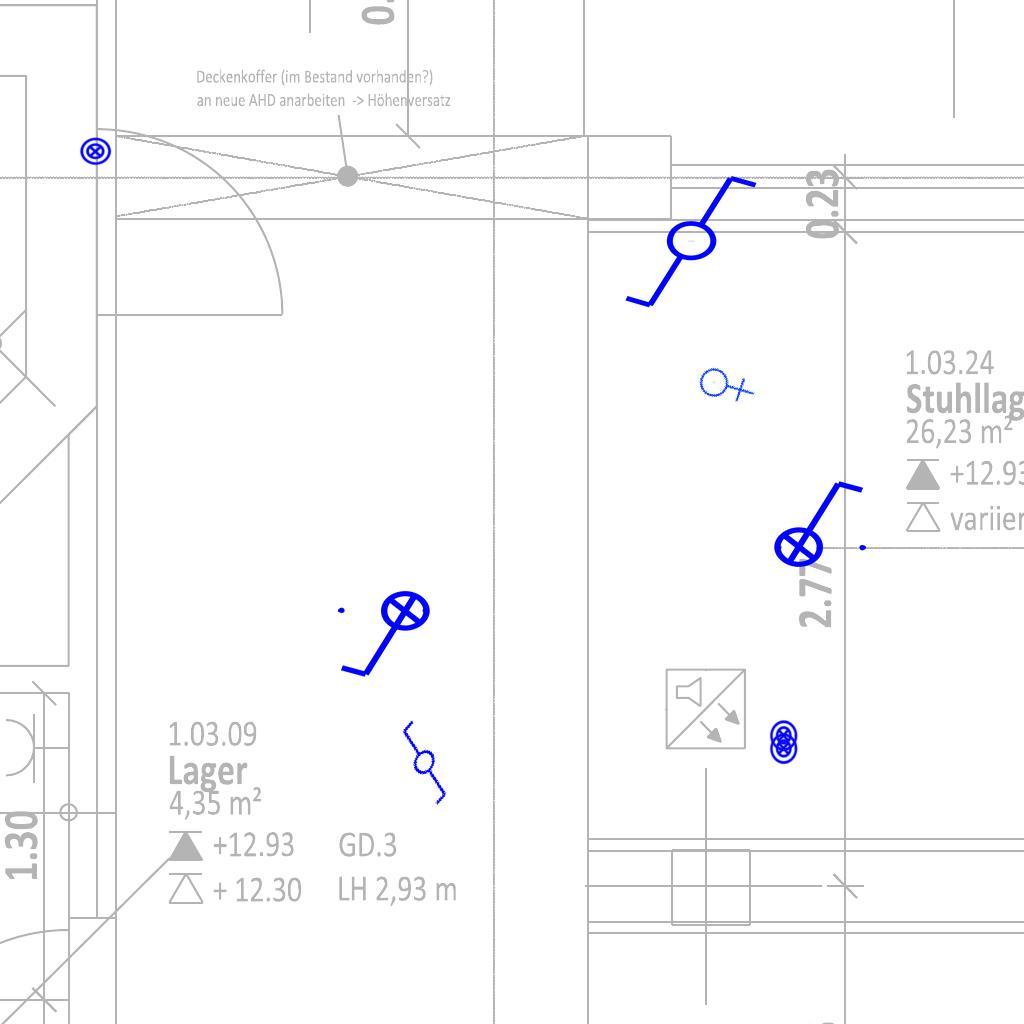Ausschalter_beleuchtet: (760, 473, 872, 569), (332, 589, 444, 685)
Elektroanschluss_allgemein_230V_Geraeteanschlussdose_230V: (691, 350, 758, 417)
Taster_beleuchtet: (79, 135, 112, 168), (767, 719, 800, 752), (767, 732, 800, 765)
Wechselschalter: (621, 171, 778, 315), (377, 708, 477, 810)
